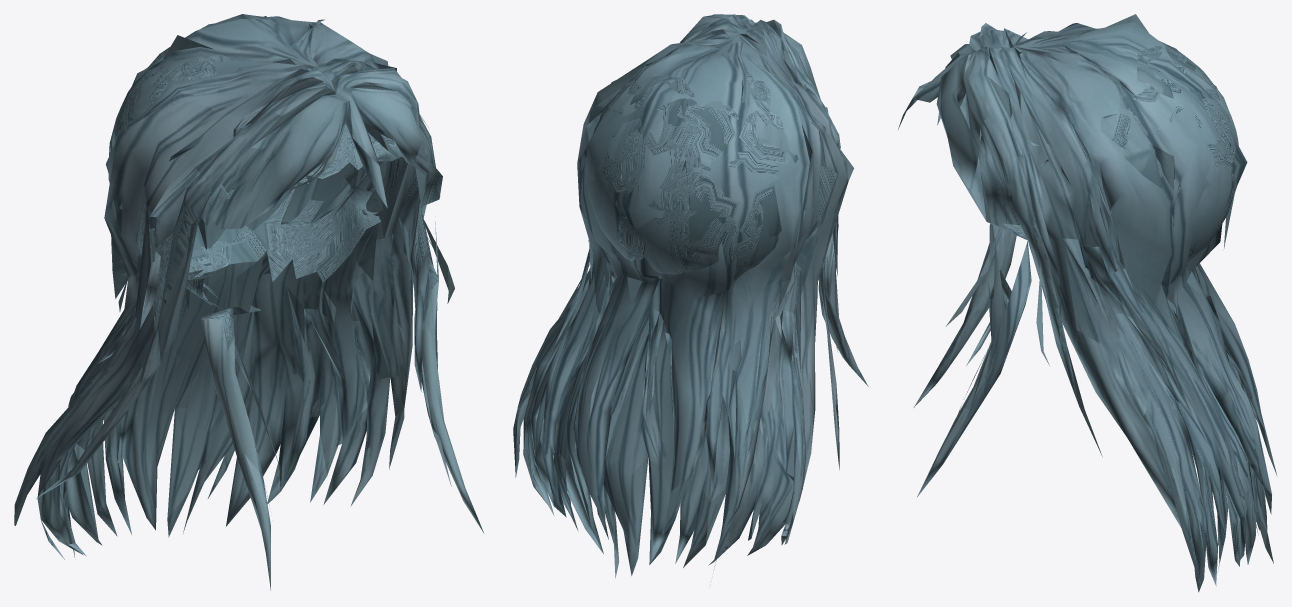
File: longo_liso.glb
3 views of the same model, side by side, from view 1: azimuth 30°, elevation 25°; view 2: azimuth 150°, elevation 25°; view 3: azimuth 270°, elevation 25° (orthographic). The views are drawn at different scales.
Visible parts, largest first — view 1: cabelo_longo_liso; view 2: cabelo_longo_liso; view 3: cabelo_longo_liso.
Part boxes in pixels (x1=…): cabelo_longo_liso: x1=14, y1=14, x2=483, y2=590; cabelo_longo_liso: x1=513, y1=14, x2=868, y2=578; cabelo_longo_liso: x1=898, y1=14, x2=1276, y2=592.
Bounding box in the file's own units: 0.2072 × 0.2999 × 0.197.
Materials: 1 (1 with a texture image).
